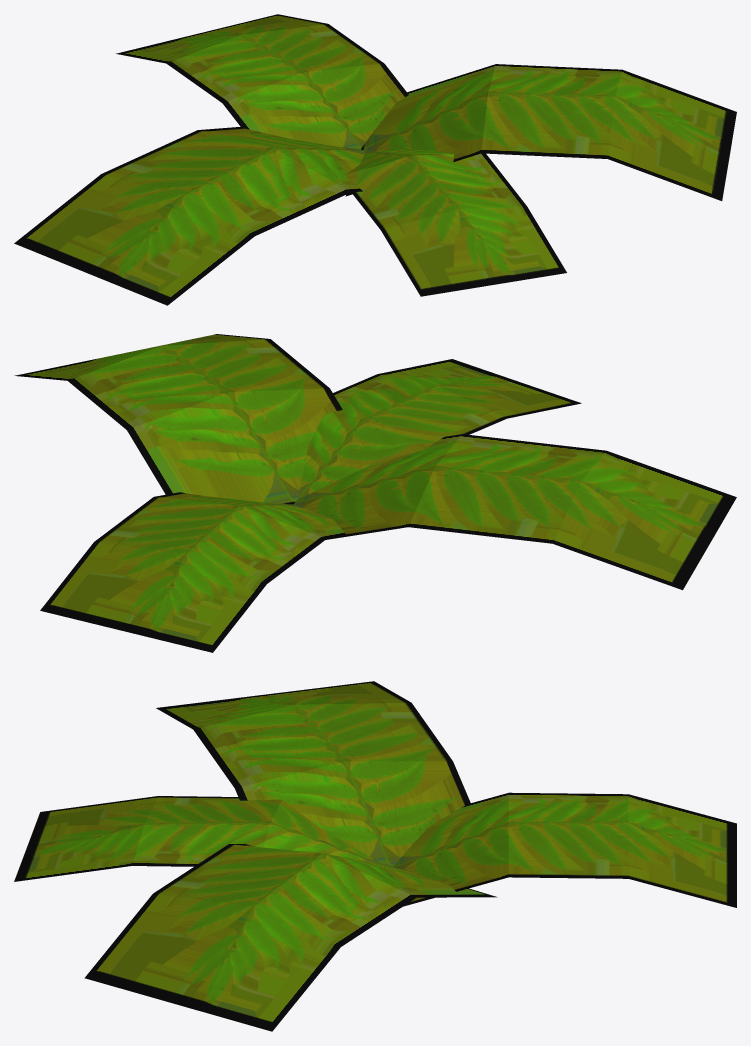
Rendered from FernLeafSprout.fbx.
3 renders of one model, top to bottom at view 1: azimuth 30°, elevation 25°; view 2: azimuth 150°, elevation 25°; view 3: azimuth 270°, elevation 25°, orthographic. The views are drawn at different scales.
Visible parts, largest first — view 1: FernLeaf.001; view 2: FernLeaf.001; view 3: FernLeaf.001.
Part boxes in pixels (<box>): FernLeaf.001: <box>14,14,736,305</box>; FernLeaf.001: <box>14,334,736,652</box>; FernLeaf.001: <box>14,681,736,1031</box>.
Size of the model in its own units: 249 by 22.51 by 216.
